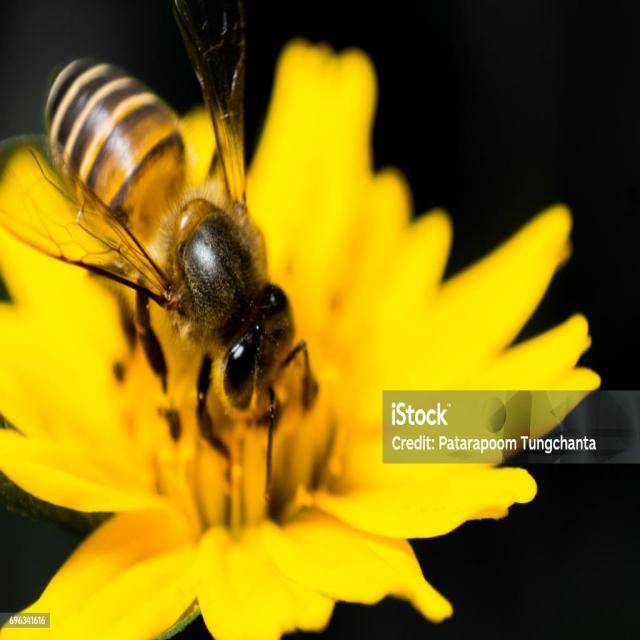bees: (0, 0, 319, 499)
